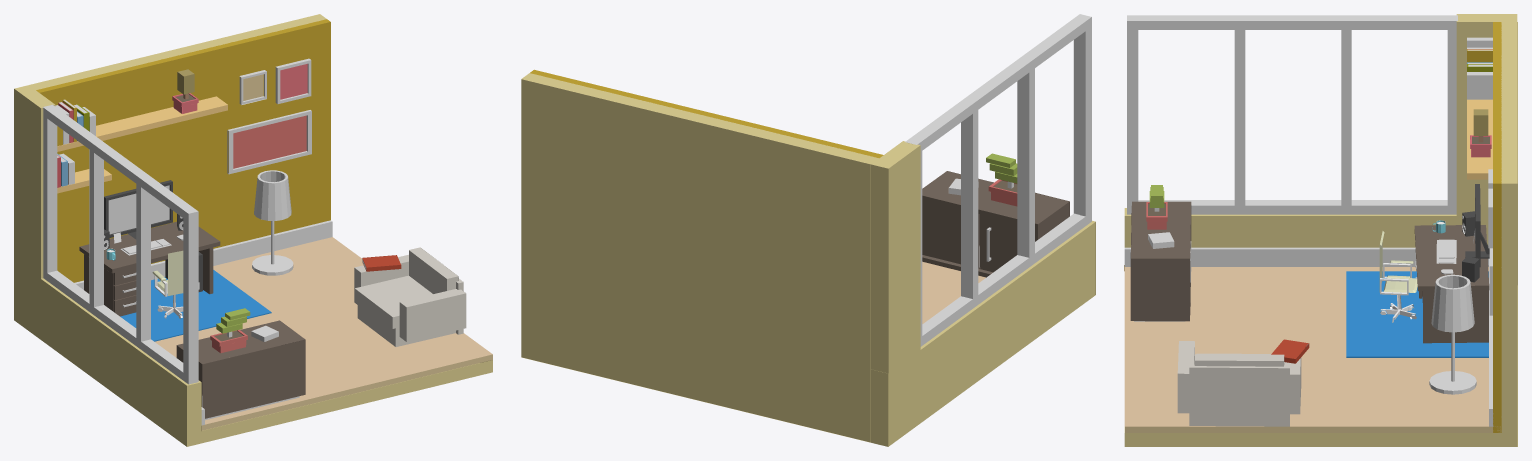
The model's file is platform2.glb.
3 renders of one model, left to right at view 1: azimuth 30°, elevation 25°; view 2: azimuth 150°, elevation 25°; view 3: azimuth 270°, elevation 25°, orthographic. The views are drawn at different scales.
Parts seen in each view (by area): view 1: Cube.087, Cube.024, Cube.143, Cube.150, Cube.165, Cube.269, Cube.146, Cube.099, Cube.335, Cube.149, Cube.227, Cube.082 (+5 smaller); view 2: Cube.087, Cube.143, Cube.082; view 3: Cube.087, Cube.024, Cube.269, Cube.143, Cube.150, Cube.146, Cube.133, Cube.227, Cube.099, Cube.104, Cube.082, Cube.335 (+3 smaller).
Boxes of the visible parts, left/top/right/bottom form: Cube.087: left=14, top=14, right=492, bottom=446; Cube.024: left=354, top=247, right=466, bottom=346; Cube.143: left=176, top=320, right=305, bottom=420; Cube.150: left=79, top=221, right=220, bottom=316; Cube.165: left=227, top=110, right=311, bottom=174; Cube.269: left=120, top=270, right=271, bottom=341; Cube.146: left=252, top=170, right=293, bottom=275; Cube.099: left=57, top=96, right=227, bottom=151; Cube.335: left=104, top=180, right=172, bottom=243; Cube.149: left=275, top=58, right=311, bottom=104; Cube.227: left=152, top=250, right=183, bottom=318; Cube.082: left=210, top=308, right=250, bottom=353; Cube.087: left=521, top=14, right=1095, bottom=446; Cube.143: left=922, top=171, right=1069, bottom=277; Cube.082: left=986, top=153, right=1017, bottom=206; Cube.087: left=1124, top=14, right=1517, bottom=446; Cube.024: left=1177, top=341, right=1301, bottom=426; Cube.269: left=1346, top=271, right=1488, bottom=357; Cube.143: left=1130, top=201, right=1191, bottom=321; Cube.150: left=1414, top=225, right=1489, bottom=343; Cube.146: left=1429, top=274, right=1476, bottom=394; Cube.133: left=1467, top=37, right=1492, bottom=99; Cube.227: left=1379, top=231, right=1417, bottom=322; Cube.099: left=1467, top=99, right=1492, bottom=179; Cube.104: left=1470, top=109, right=1491, bottom=157; Cube.082: left=1146, top=185, right=1167, bottom=229; Cube.335: left=1465, top=184, right=1489, bottom=267.
Size of what is drawn, in the model's own units: 5 by 3.61 by 4.9.
